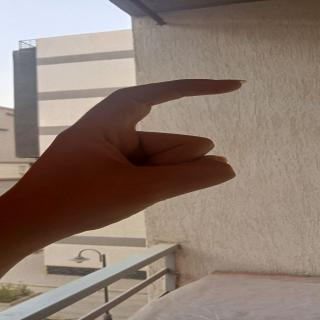RAA: (6, 67, 285, 235)
